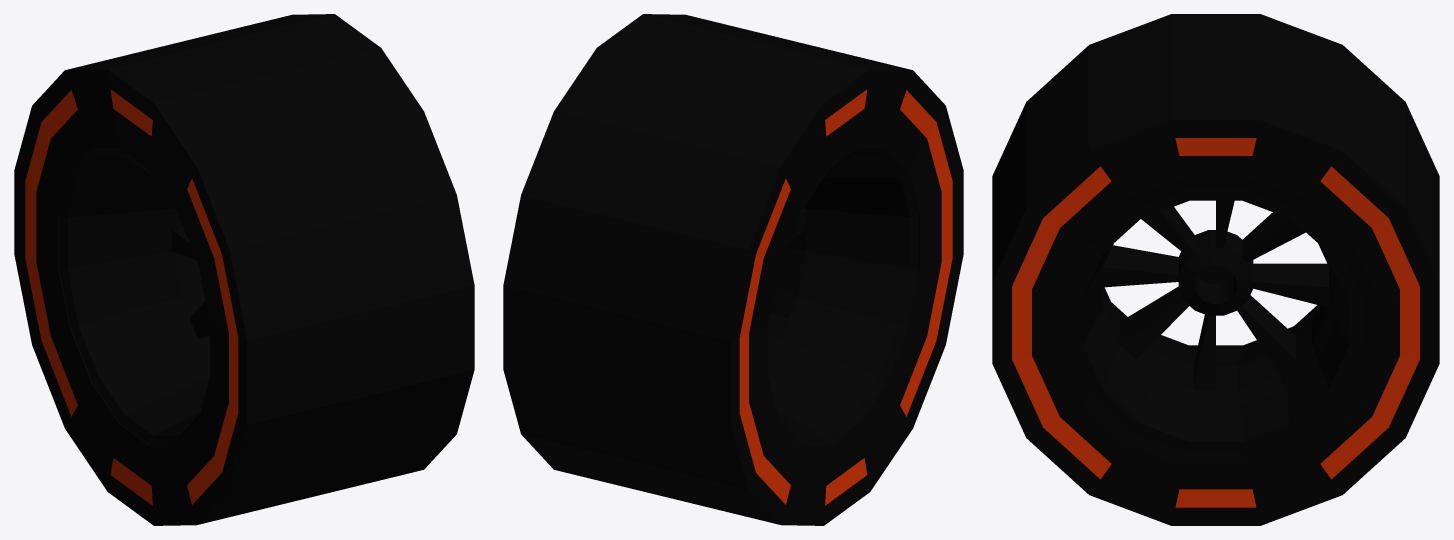
Rendered from rear-tyre.glb.
3 views of the same model, side by side, from view 1: azimuth 30°, elevation 25°; view 2: azimuth 150°, elevation 25°; view 3: azimuth 270°, elevation 25° (orthographic). The views are drawn at different scales.
Parts seen in each view (by area): view 1: Tyre; view 2: Tyre; view 3: Tyre.
Boxes of the visible parts, x1,y1,x2,y2 form: Tyre: [14, 14, 474, 525]; Tyre: [503, 14, 963, 525]; Tyre: [992, 14, 1439, 525].
Size of the model in its own units: 0.405 by 0.72 by 0.72.
